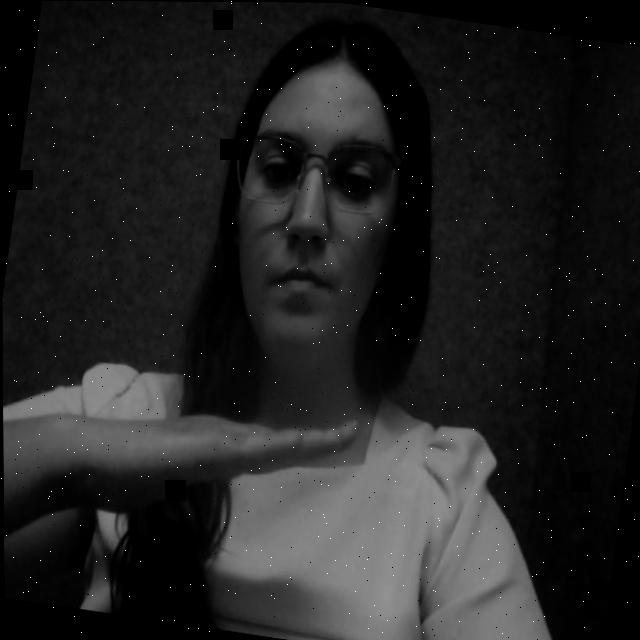Paper: (48, 350, 375, 563)
